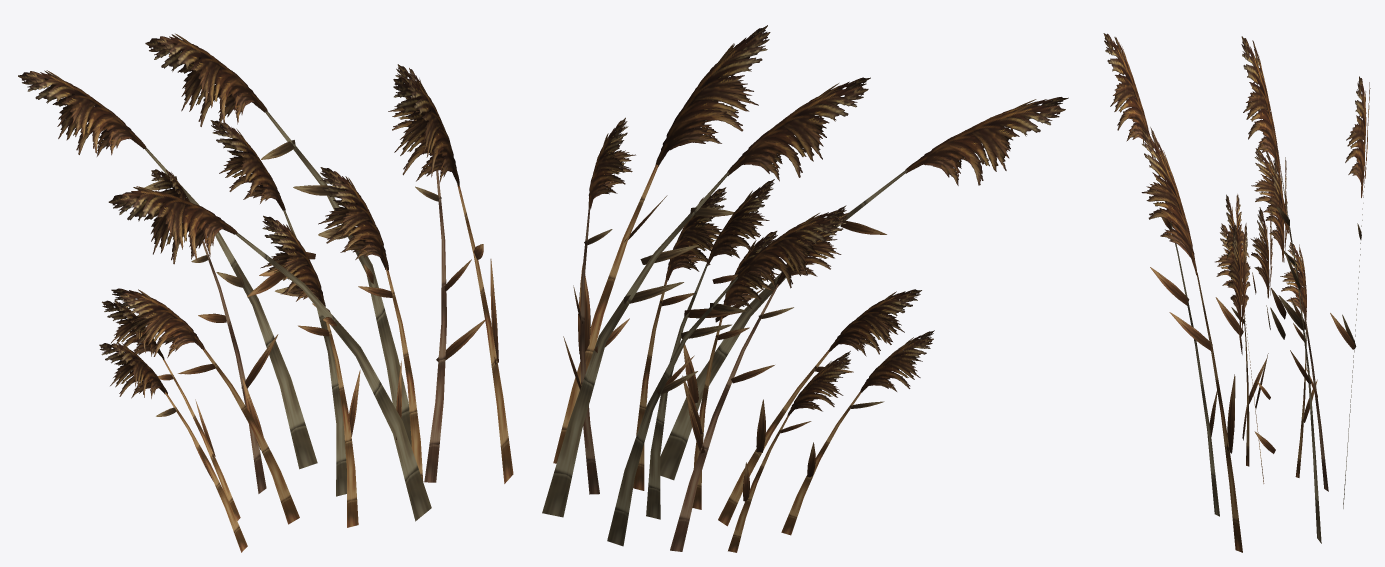
The model's file is luwei_04.FBX.
The picture shows the model from 3 angles, left to right: view 1: azimuth 30°, elevation 25°; view 2: azimuth 150°, elevation 25°; view 3: azimuth 270°, elevation 25°; orthographic projection. The views are drawn at different scales.
Parts seen in each view (by area): view 1: luwei_04; view 2: luwei_04; view 3: luwei_04.
Part boxes in pixels (bbox=[...]): luwei_04: bbox=[18, 33, 513, 552]; luwei_04: bbox=[542, 25, 1068, 552]; luwei_04: bbox=[1103, 33, 1370, 552].
Bounding box in the file's own units: 127 × 137 × 80.74.
